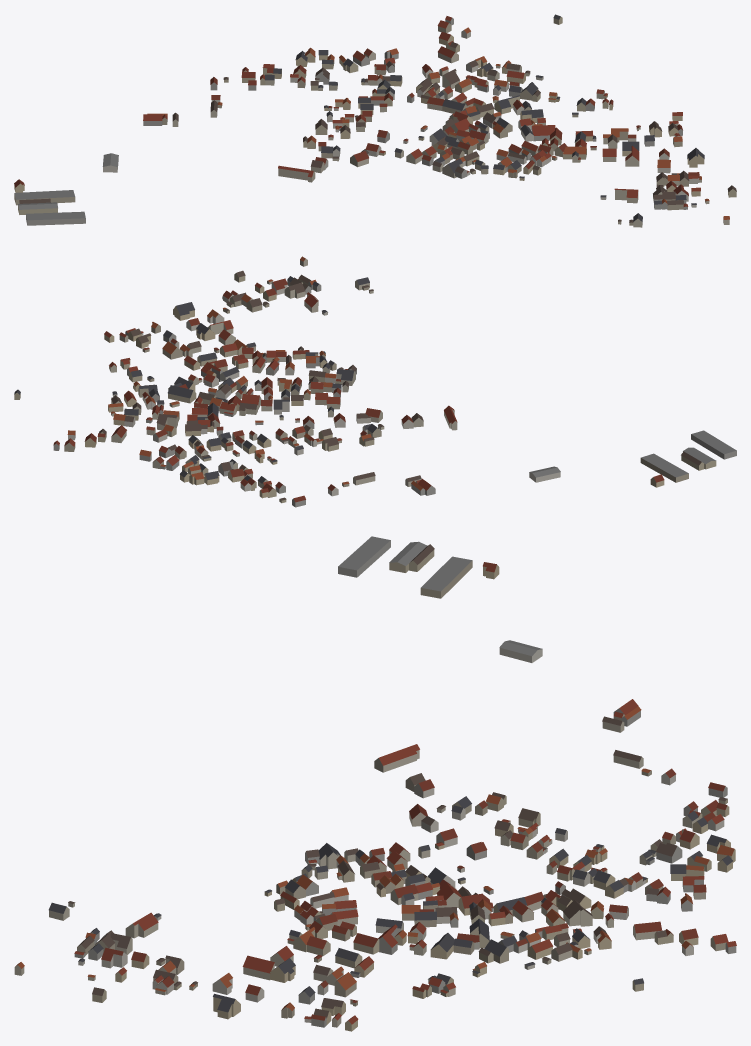
The picture shows the model from 3 angles, top to bottom: view 1: azimuth 30°, elevation 25°; view 2: azimuth 150°, elevation 25°; view 3: azimuth 270°, elevation 25°; orthographic projection. The views are drawn at different scales.
Parts seen in each view (by area): view 1: buildings; view 2: buildings; view 3: buildings.
Boxes of the visible parts, bbox=[...] form: buildings: bbox=[14, 14, 736, 227]; buildings: bbox=[14, 256, 736, 507]; buildings: bbox=[14, 536, 736, 1031].
Size of the model in its own units: 751 by 60.38 by 537.
